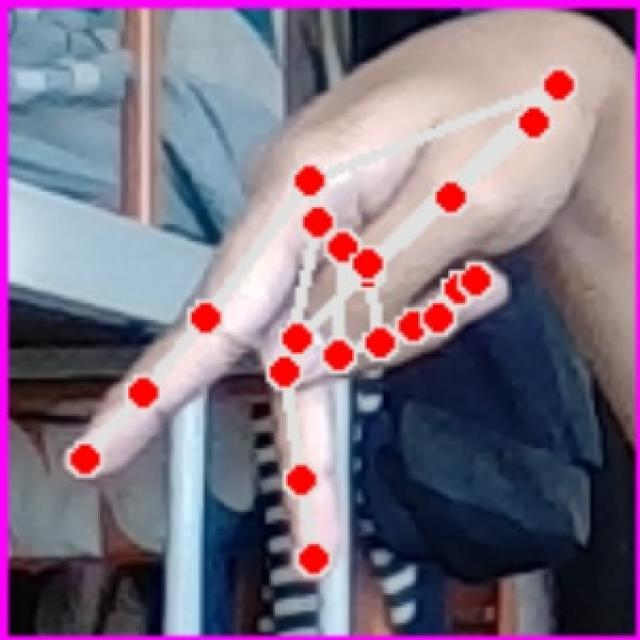P: (52, 20, 618, 582)
